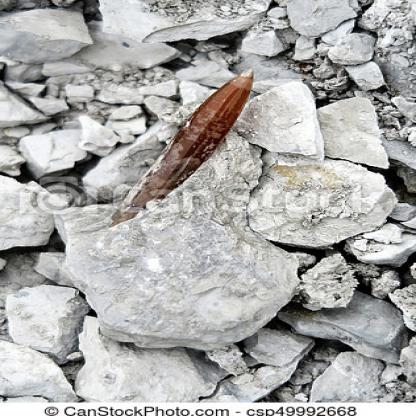Sedimentary_Chalk: (270, 27, 401, 176), (112, 222, 266, 322), (41, 82, 130, 171)
